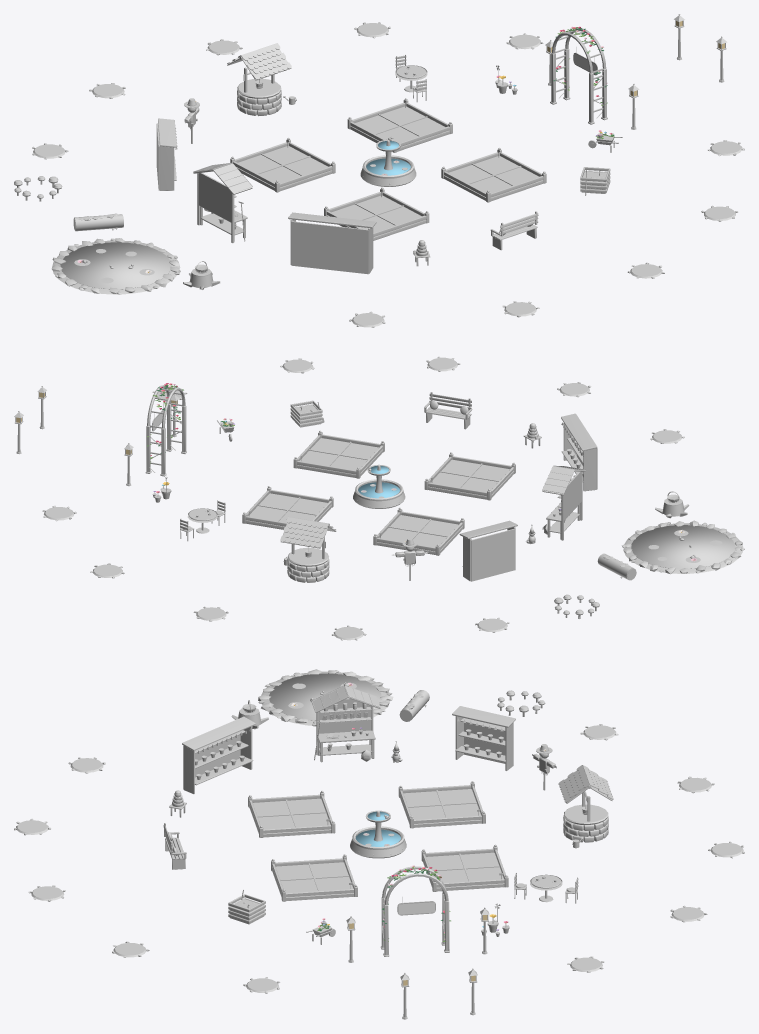
File: zon_garden.glb
3 views of the same model, one above another, from view 1: azimuth 30°, elevation 25°; view 2: azimuth 150°, elevation 25°; view 3: azimuth 270°, elevation 25° (orthographic). The views are drawn at different scales.
Visible parts, largest first — view 1: SM_zon_garden_kit_garden_xm1_z0_LOD0, SM_zon_garden_garden_water_xm1_z0; view 2: SM_zon_garden_kit_garden_xm1_z0_LOD0, SM_zon_garden_garden_water_xm1_z0; view 3: SM_zon_garden_kit_garden_xm1_z0_LOD0, SM_zon_garden_garden_water_xm1_z0.
Part boxes in pixels (left/top/right/bottom): SM_zon_garden_kit_garden_xm1_z0_LOD0: left=14, top=14, right=744, bottom=327; SM_zon_garden_garden_water_xm1_z0: left=366, top=141, right=410, bottom=175; SM_zon_garden_kit_garden_xm1_z0_LOD0: left=14, top=356, right=744, bottom=640; SM_zon_garden_garden_water_xm1_z0: left=358, top=465, right=400, bottom=498; SM_zon_garden_kit_garden_xm1_z0_LOD0: left=14, top=669, right=744, bottom=1019; SM_zon_garden_garden_water_xm1_z0: left=355, top=811, right=400, bottom=846.
Size of the model in its own units: 33.62 by 3.85 by 29.75.
